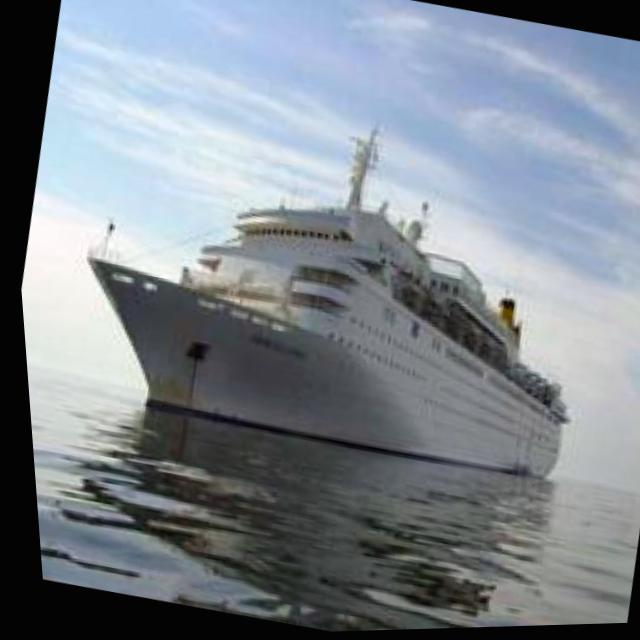ship2: (82, 137, 563, 485)
